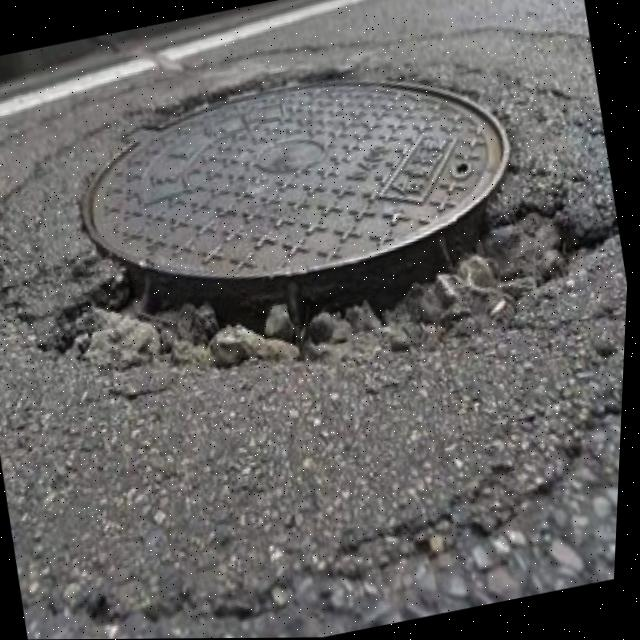manhole: (0, 11, 599, 430)
